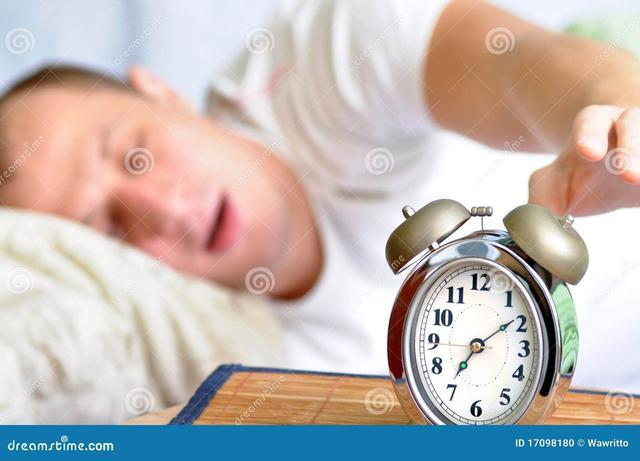sleep: (81, 89, 320, 298)
